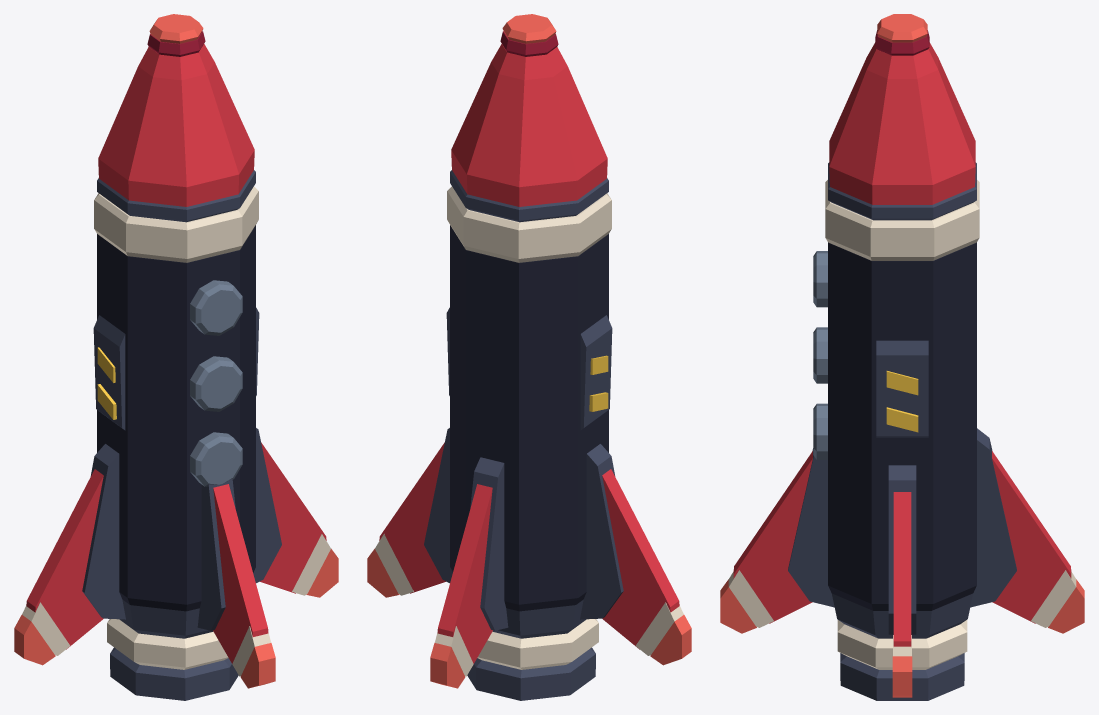
The model's file is enemy-brick-missile.glb.
3 renders of one model, left to right at view 1: azimuth 30°, elevation 25°; view 2: azimuth 150°, elevation 25°; view 3: azimuth 270°, elevation 25°, orthographic.
Parts seen in each view (by area): view 1: 01 | Faceted midnight fuselage, 05 | Vermilion nose cone, 03 | Nose collar - porcelain, port | Scarlet swept fin, dorsal | Scarlet swept fin, port | Dark fin moulding, starboard | Scarlet swept fin, 09 | Exhaust housing, 08 | Tail collar, dorsal | Dark fin moulding, 04 | Nose collar - graphite, Port | Side enamel plaque (+13 smaller); view 2: 01 | Faceted midnight fuselage, 05 | Vermilion nose cone, 03 | Nose collar - porcelain, port | Scarlet swept fin, ventral | Scarlet swept fin, port | Dark fin moulding, starboard | Scarlet swept fin, 09 | Exhaust housing, ventral | Dark fin moulding, 08 | Tail collar, 04 | Nose collar - graphite, Port | Side enamel plaque (+10 smaller); view 3: 01 | Faceted midnight fuselage, 05 | Vermilion nose cone, 03 | Nose collar - porcelain, dorsal | Scarlet swept fin, ventral | Scarlet swept fin, ventral | Dark fin moulding, dorsal | Dark fin moulding, Starboard | Side enamel plaque, 08 | Tail collar, 09 | Exhaust housing, starboard | Scarlet swept fin, 02 | Aft armour socket (+14 smaller).
Boxes of the visible parts, x1,y1,x2,y2 form: 01 | Faceted midnight fuselage: [97, 225, 255, 611]; 05 | Vermilion nose cone: [98, 44, 254, 206]; 03 | Nose collar - porcelain: [94, 186, 258, 262]; port | Scarlet swept fin: [26, 469, 103, 649]; dorsal | Scarlet swept fin: [213, 484, 268, 663]; port | Dark fin moulding: [82, 444, 125, 619]; starboard | Scarlet swept fin: [260, 442, 326, 593]; 09 | Exhaust housing: [110, 647, 238, 700]; 08 | Tail collar: [107, 619, 228, 669]; dorsal | Dark fin moulding: [197, 478, 235, 630]; 04 | Nose collar - graphite: [97, 170, 255, 222]; Port | Side enamel plaque: [93, 315, 125, 430]; 01 | Faceted midnight fuselage: [450, 225, 608, 611]; 05 | Vermilion nose cone: [451, 44, 607, 206]; 03 | Nose collar - porcelain: [447, 186, 611, 262]; port | Scarlet swept fin: [602, 469, 679, 649]; ventral | Scarlet swept fin: [437, 484, 492, 663]; port | Dark fin moulding: [580, 444, 623, 619]; starboard | Scarlet swept fin: [379, 442, 445, 593]; 09 | Exhaust housing: [467, 647, 595, 700]; ventral | Dark fin moulding: [470, 457, 508, 630]; 08 | Tail collar: [477, 619, 598, 669]; 04 | Nose collar - graphite: [450, 170, 608, 222]; Port | Side enamel plaque: [580, 315, 612, 430]; 01 | Faceted midnight fuselage: [828, 242, 976, 610]; 05 | Vermilion nose cone: [829, 42, 975, 204]; 03 | Nose collar - porcelain: [825, 180, 979, 260]; dorsal | Scarlet swept fin: [733, 451, 812, 623]; ventral | Scarlet swept fin: [992, 451, 1071, 623]; ventral | Dark fin moulding: [970, 428, 1016, 607]; dorsal | Dark fin moulding: [788, 448, 834, 607]; Starboard | Side enamel plaque: [876, 340, 928, 437]; 08 | Tail collar: [837, 620, 967, 669]; 09 | Exhaust housing: [840, 653, 964, 700]; starboard | Scarlet swept fin: [893, 492, 911, 646]; 02 | Aft armour socket: [831, 593, 973, 638].
Size of the model in its own units: 0.5575 by 1.12 by 0.5575.
Materials: 1 (1 with a texture image).
